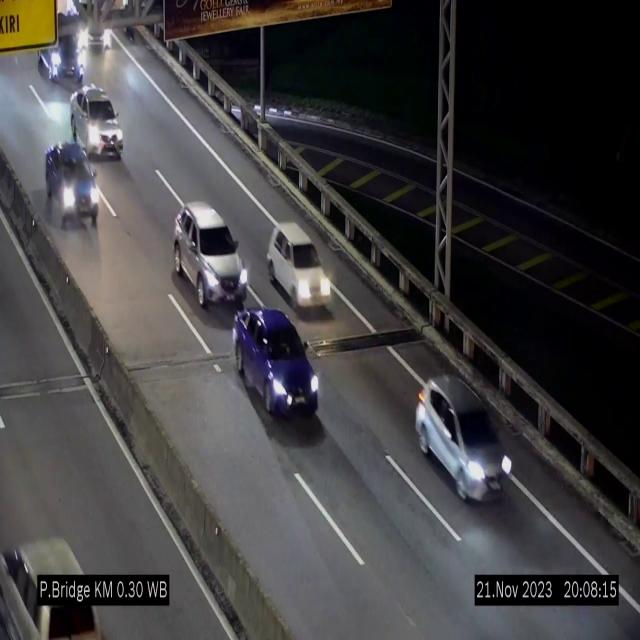Car: (0, 511, 108, 640), (415, 374, 515, 500), (232, 307, 320, 414), (174, 202, 248, 306), (267, 222, 331, 307), (46, 140, 102, 236), (71, 85, 123, 159), (36, 27, 88, 84)
